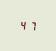four: (19, 19, 26, 30)
seven: (27, 19, 34, 31)
